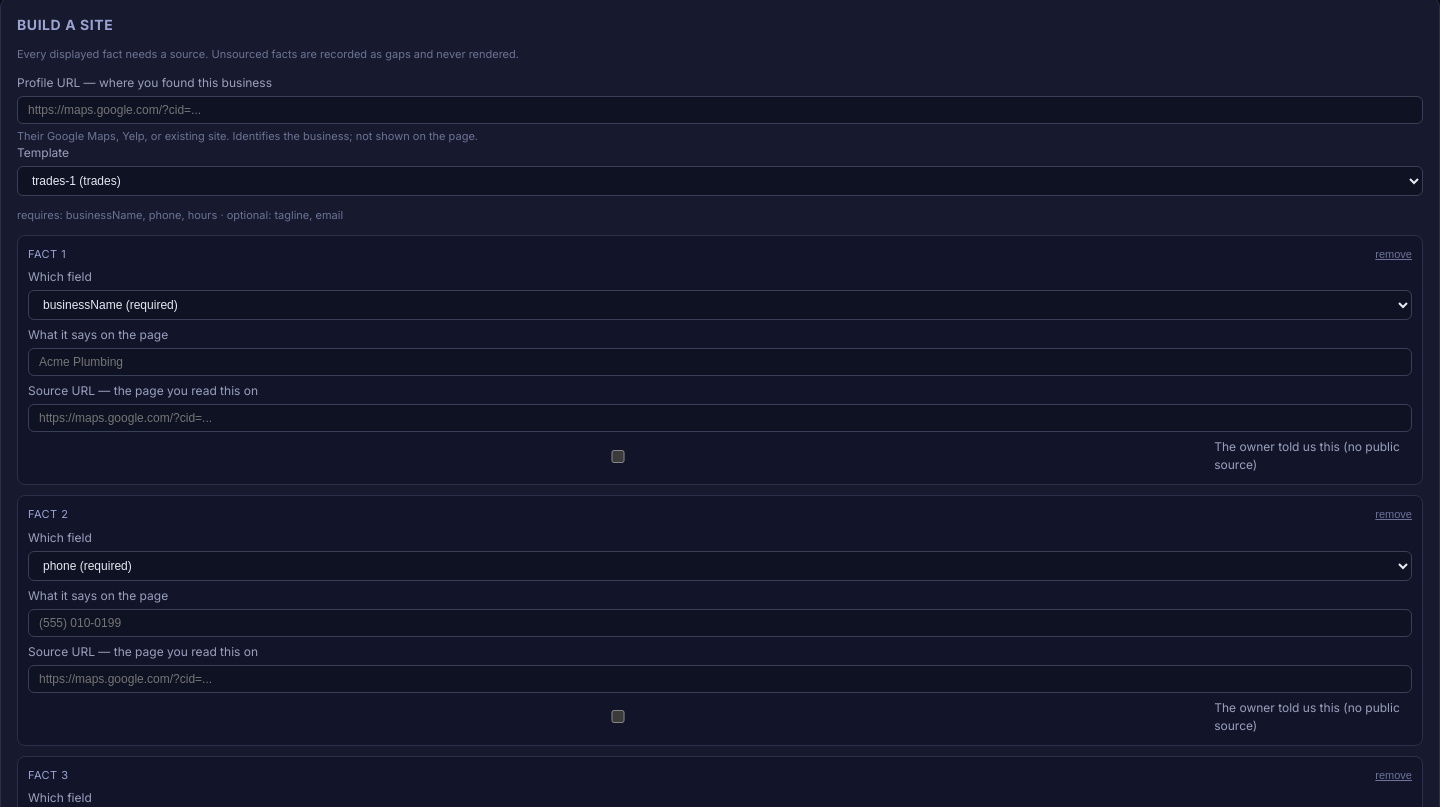
site builder › refuses without a selected space
The image size is (1440, 807).
In the field with test id "profile-url": [720, 110] box [17,96,1423,124], type "https://maps.example/acme"
(page scrolled)
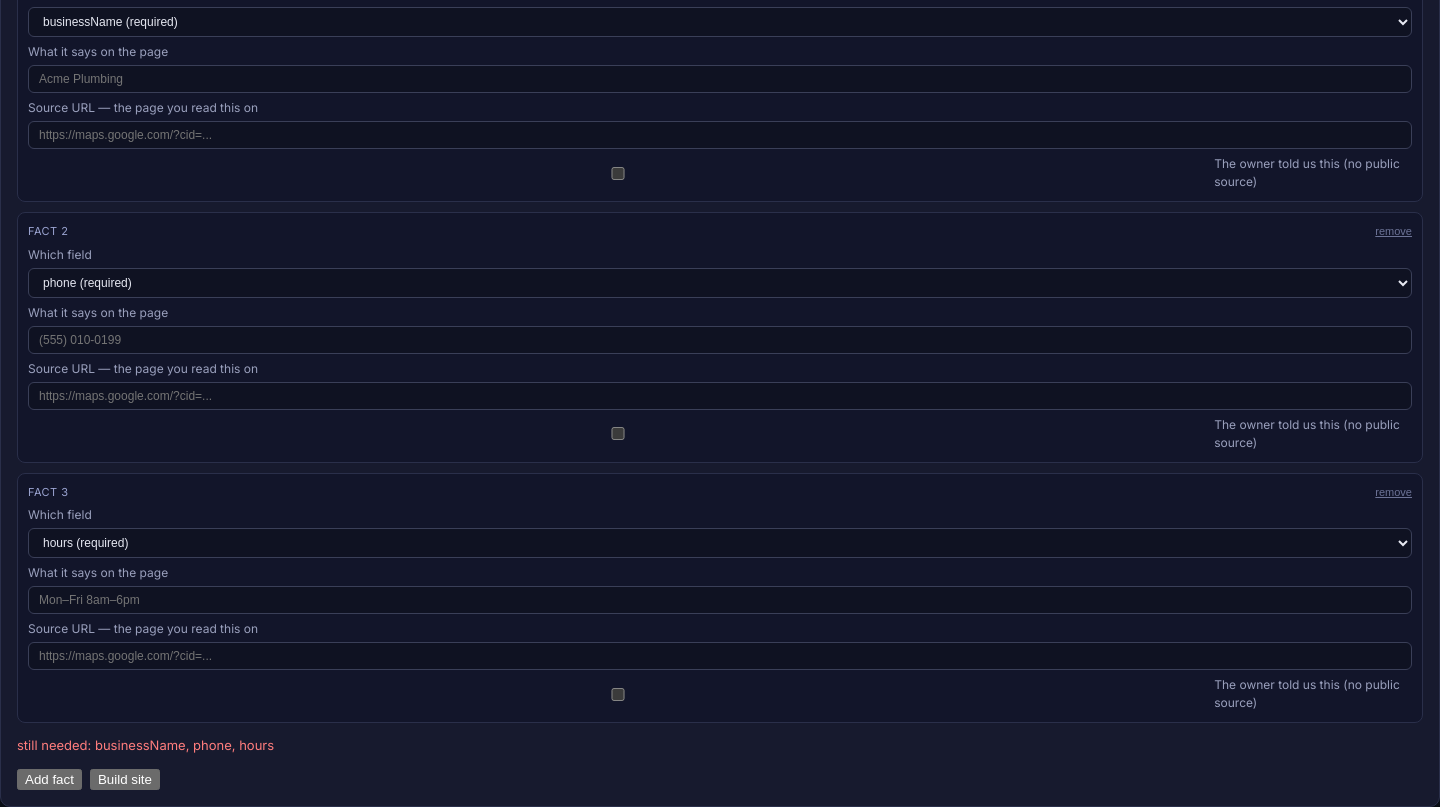
Click the button with test id "build-site": [125, 779] box [90,768,160,790]
(page scrolled)
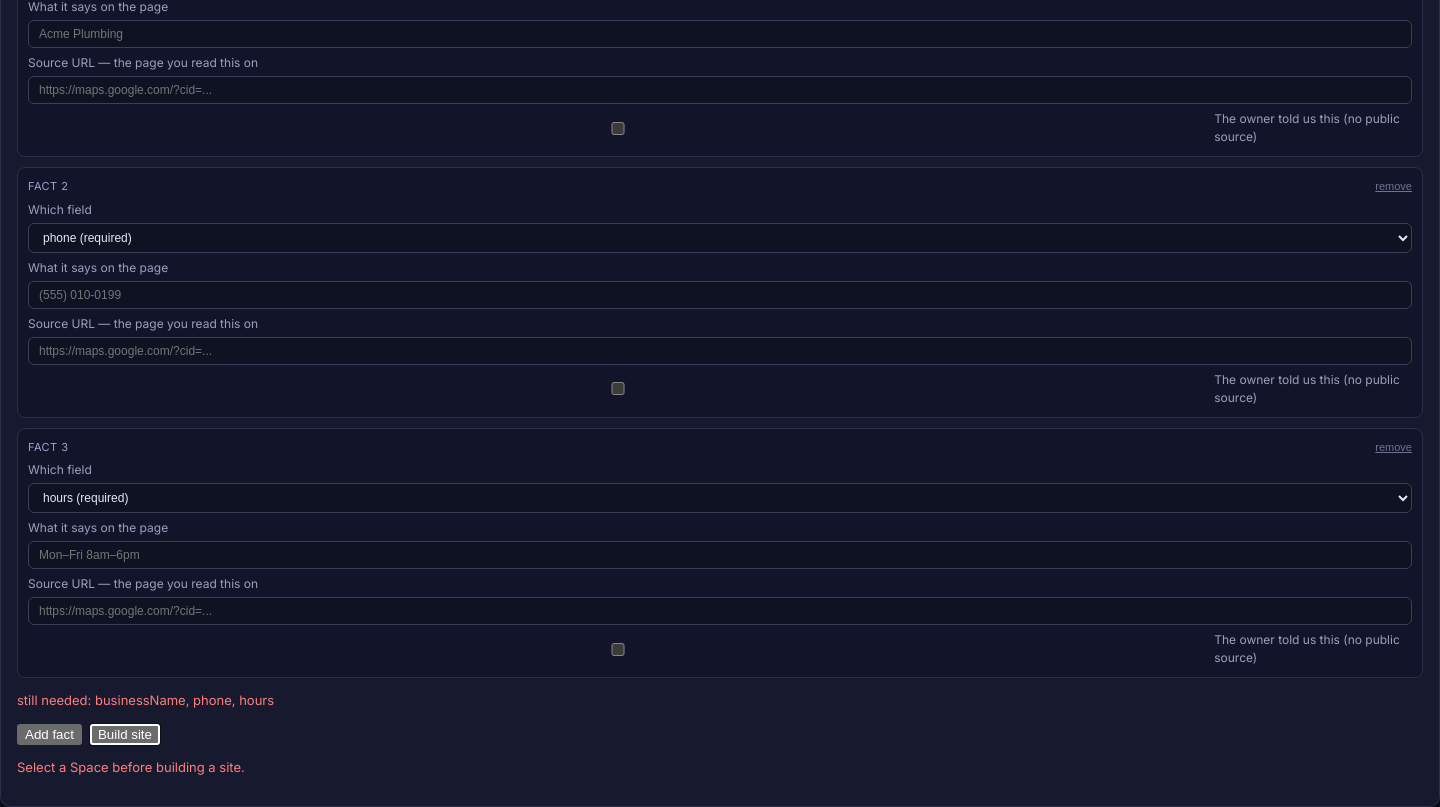
expect the message shows "Select a Space": met, box [17,758,245,774]
